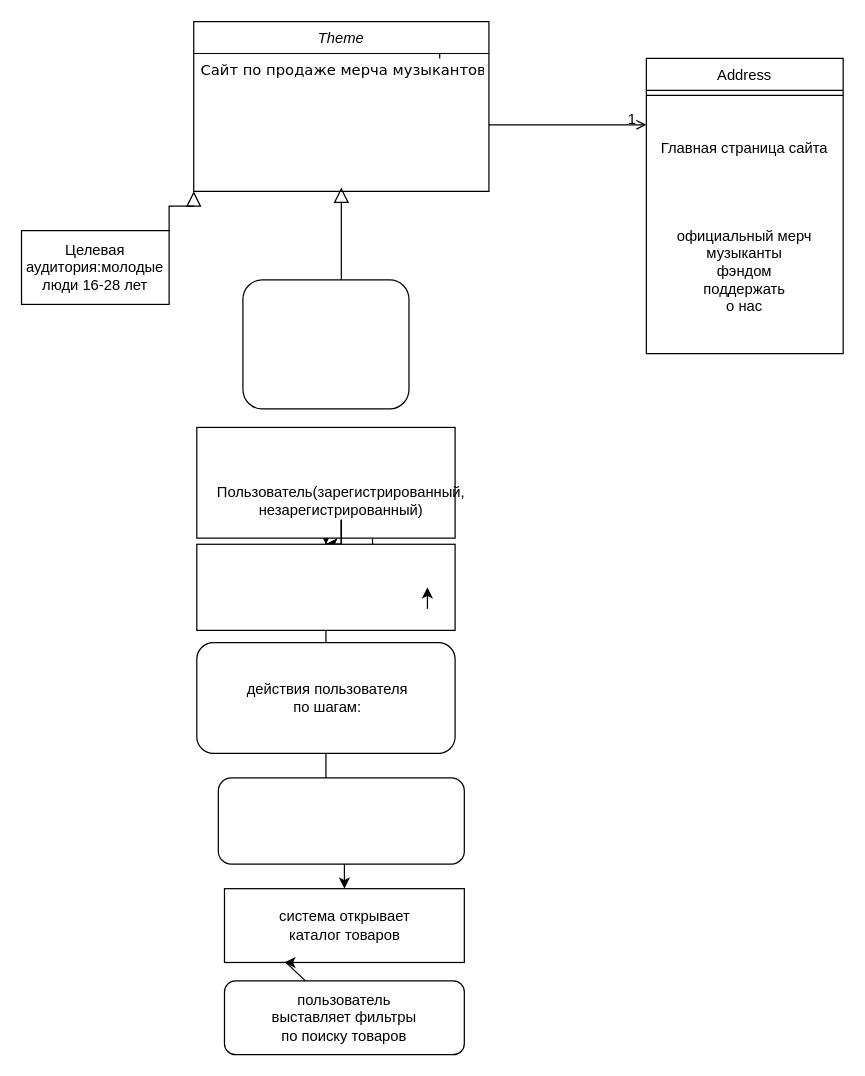
Some shapes in this 865 by 1076 pixel diagram are drawn without their labels. The box of each missing label's shape, as (x1, y1, x2, y2) in pixels:
1.Пользователь открывает главную страницу сайта: (217, 777, 464, 864)
Предусловие открытие карточки с товаром: (196, 543, 455, 630)
сценарий использования:заказ мерча: (242, 279, 409, 409)
